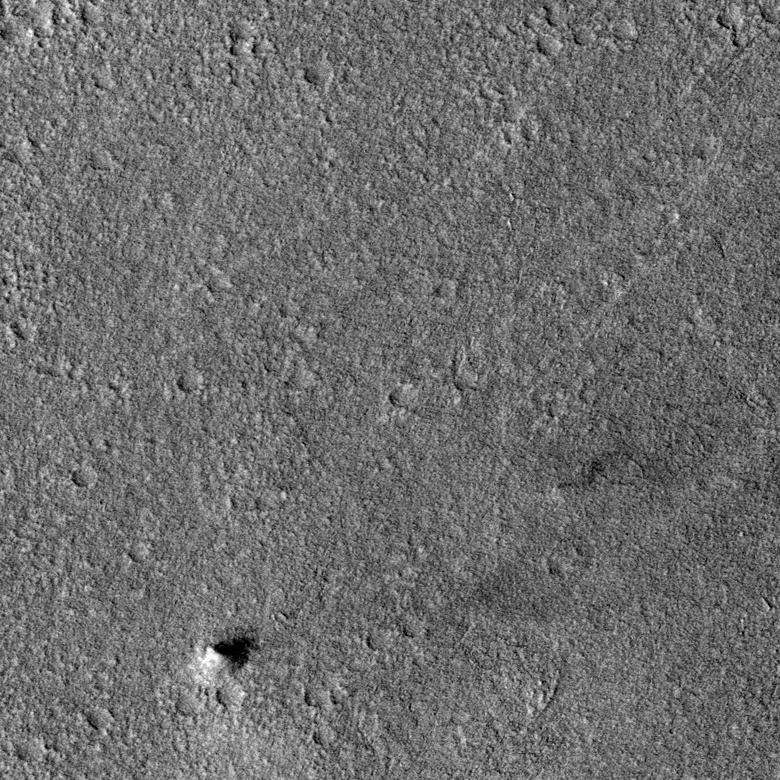dust_devil: (195, 633, 259, 673)
